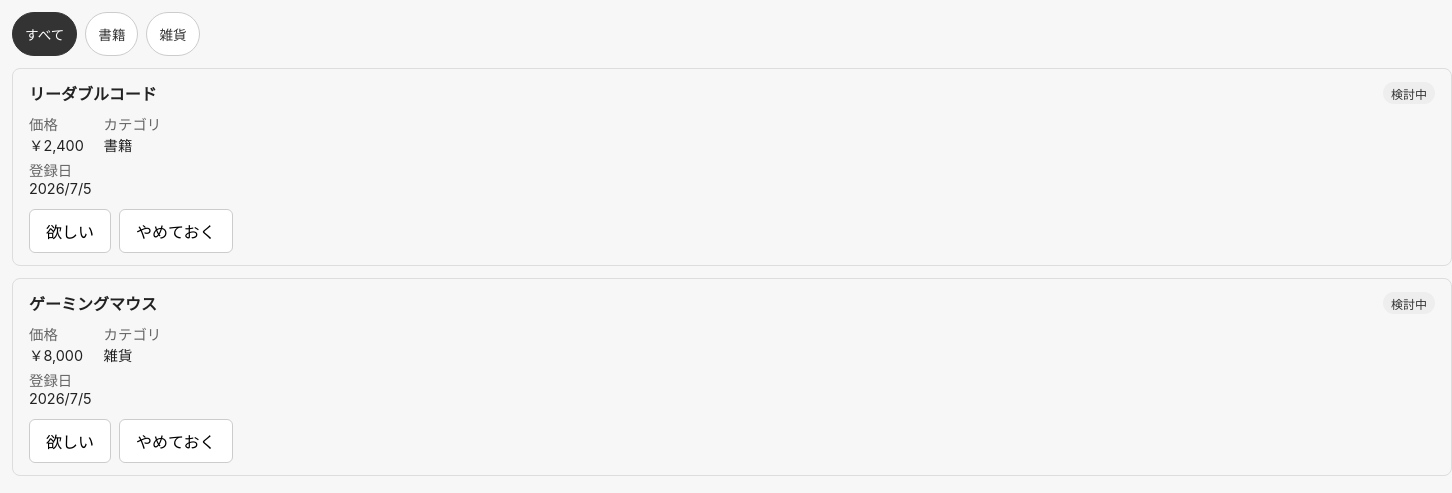
Test case: WishItemList › 「すべて」を選択するとフィルターが解除される
expect the heading "リーダブルコード" is shown: met, box [29,81,157,105]
Step 1. Click the button "書籍" → (112, 34), box [85,12,138,56]
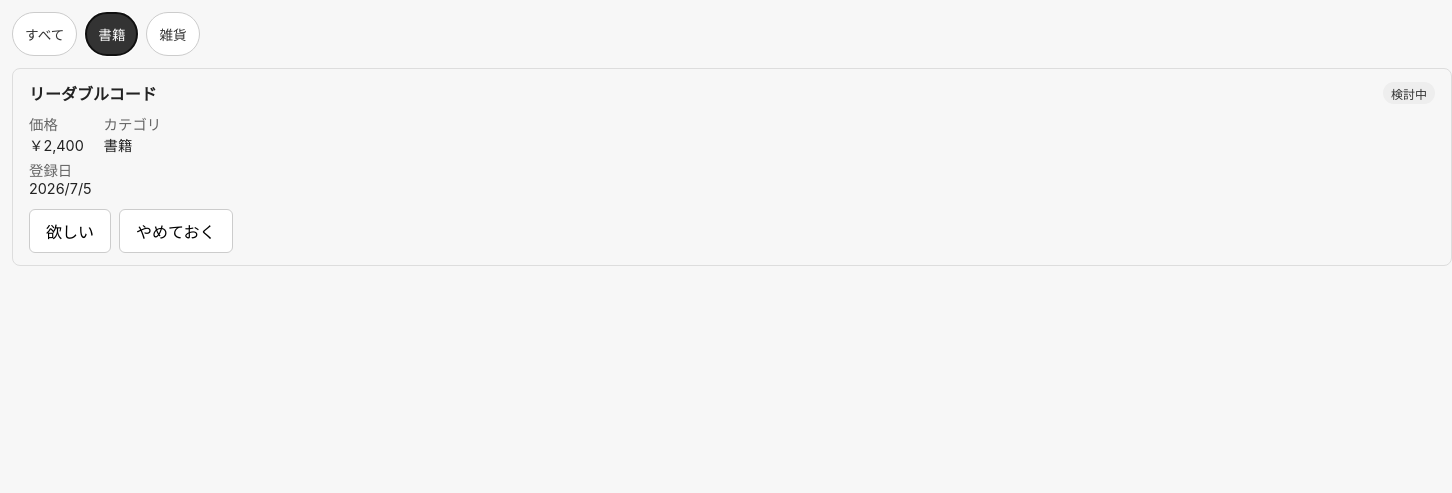
expect the heading "ゲーミングマウス" is gone: met
Step 2. Click the button "すべて" → (45, 34), box [12,12,77,56]
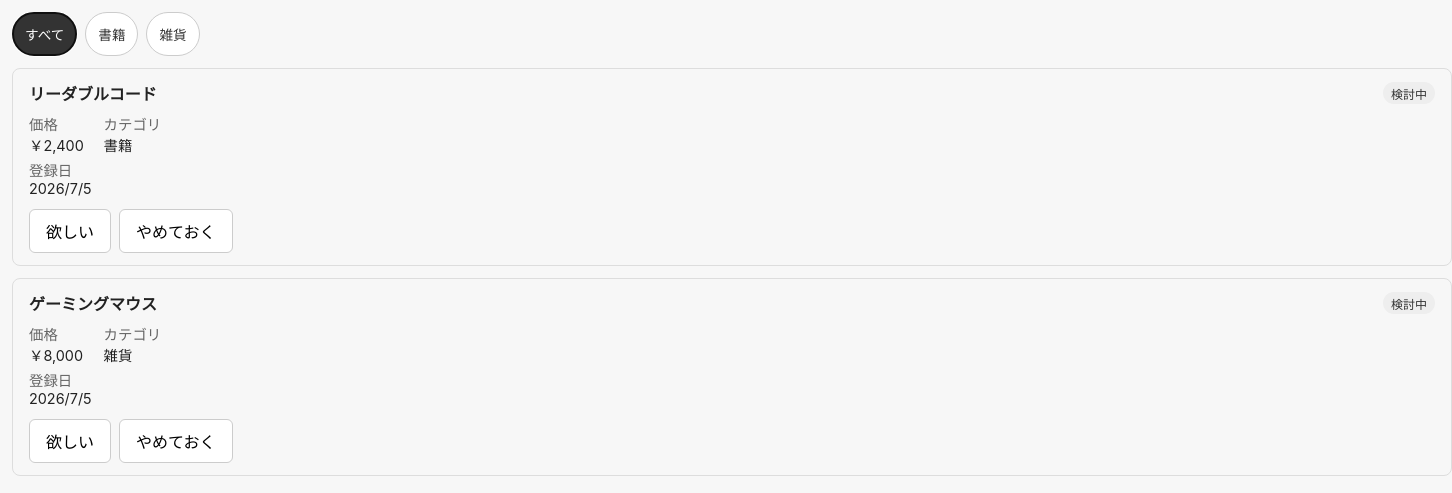
expect the heading "ゲーミングマウス" is shown: met, box [29,291,157,315]
